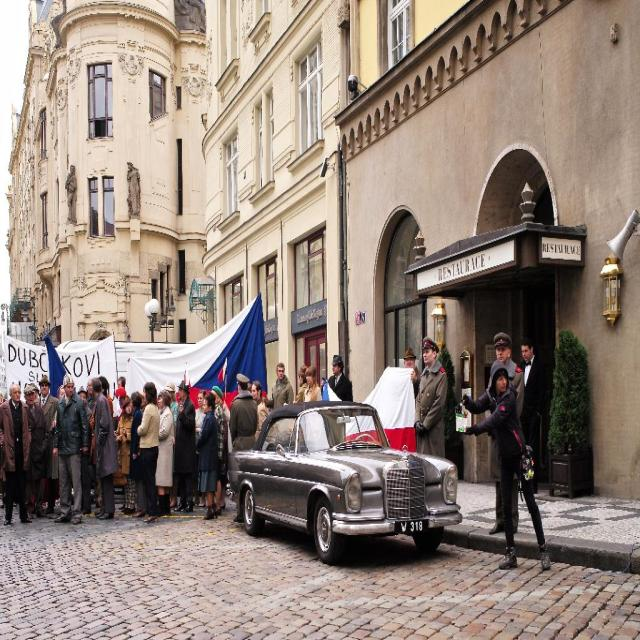car: (224, 398, 459, 567)
